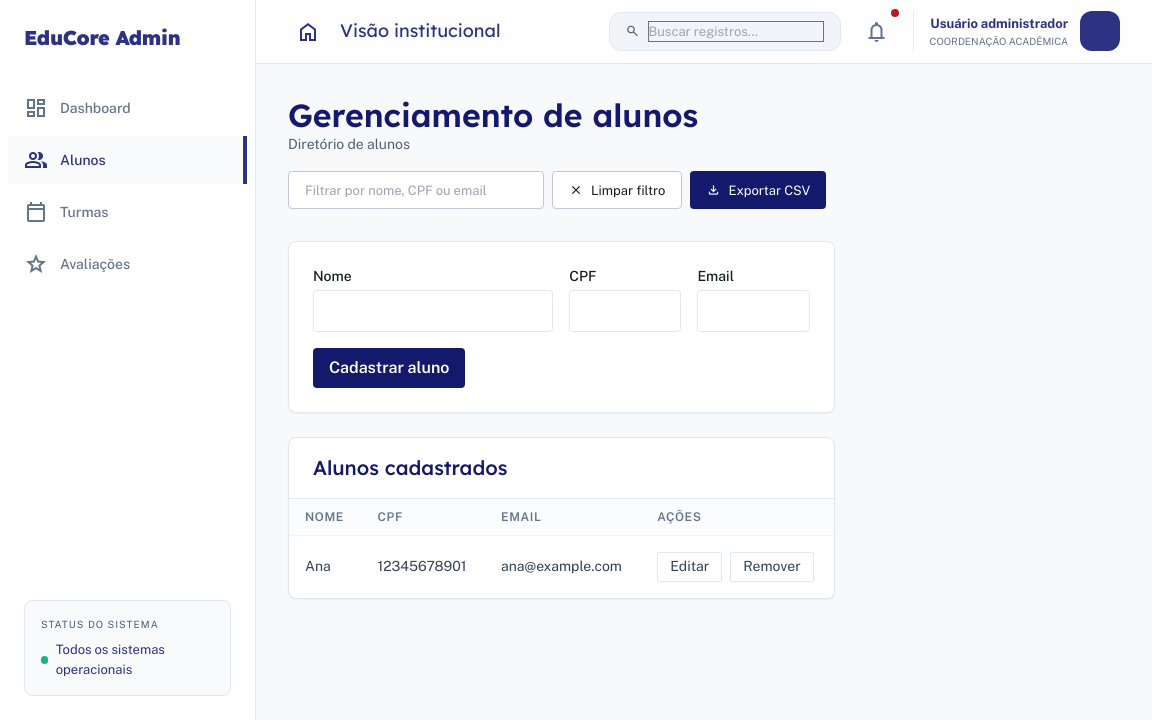
Test: Tela de alunos › edita aluno existente com sucesso
Click the button "Editar".
click(690, 567)  # box [657,552,722,582]
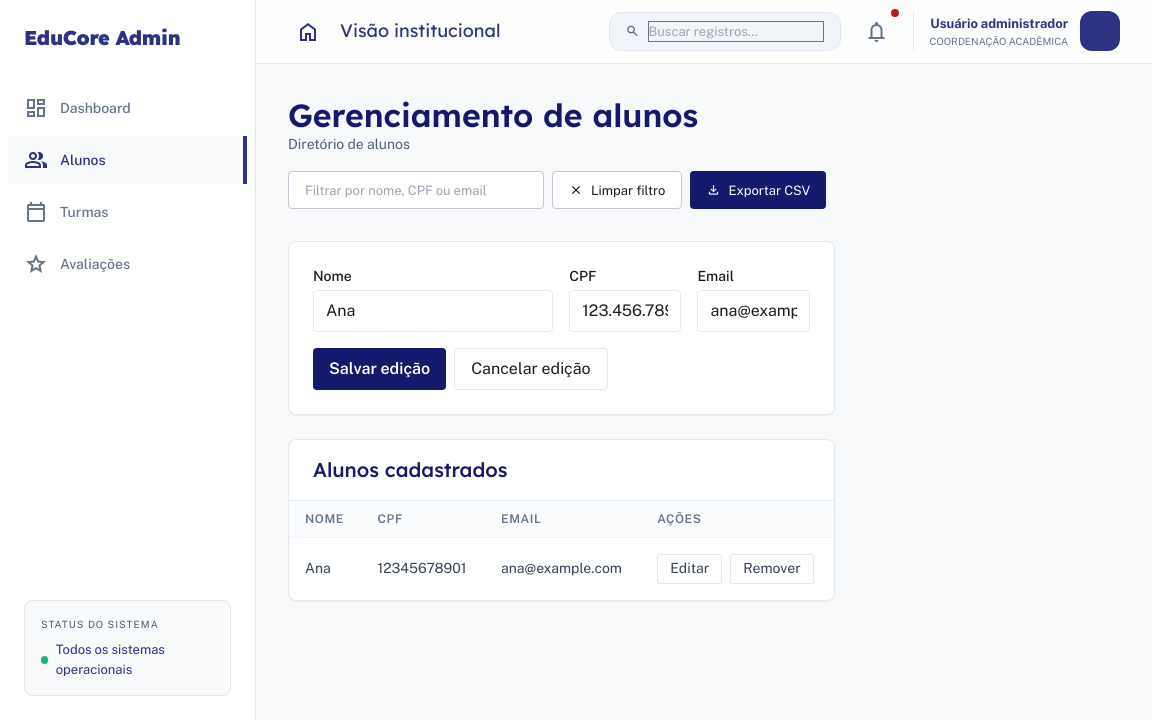
Replace the text in the field labelled "Nome" with "Ana Souza" at point(433, 311), box [313,290,553,332]
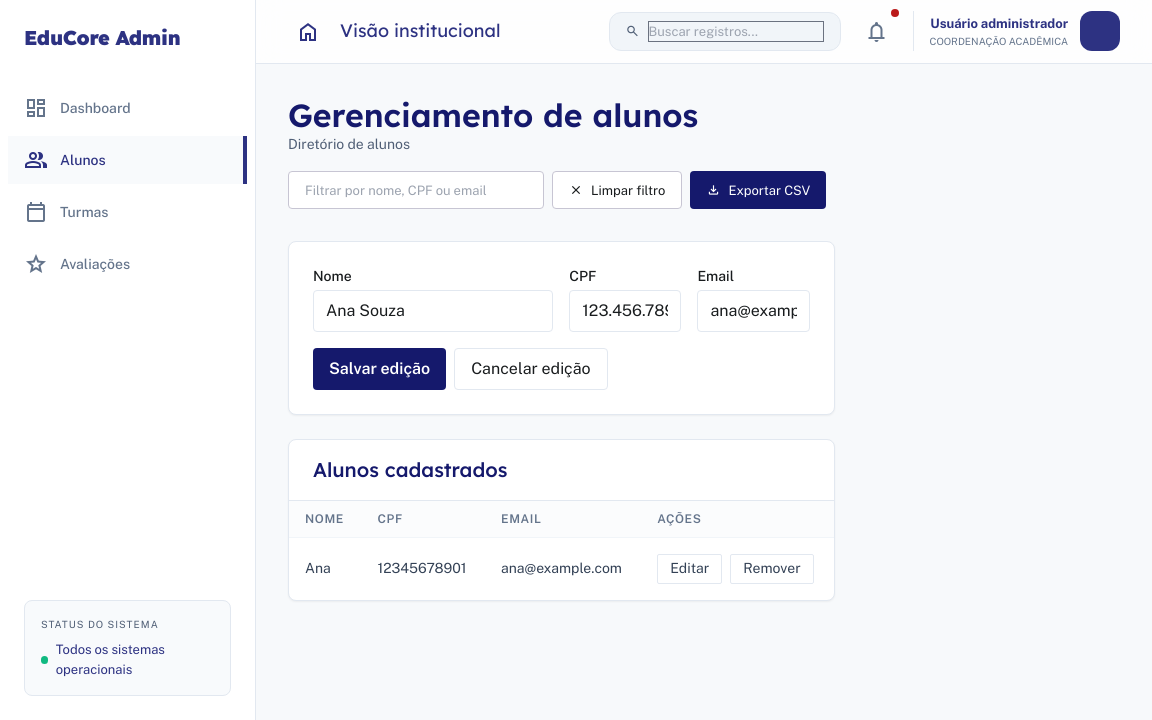
Replace the text in the field labelled "Email" with "ana.souza@example.com" at point(754, 311), box [698,290,810,332]
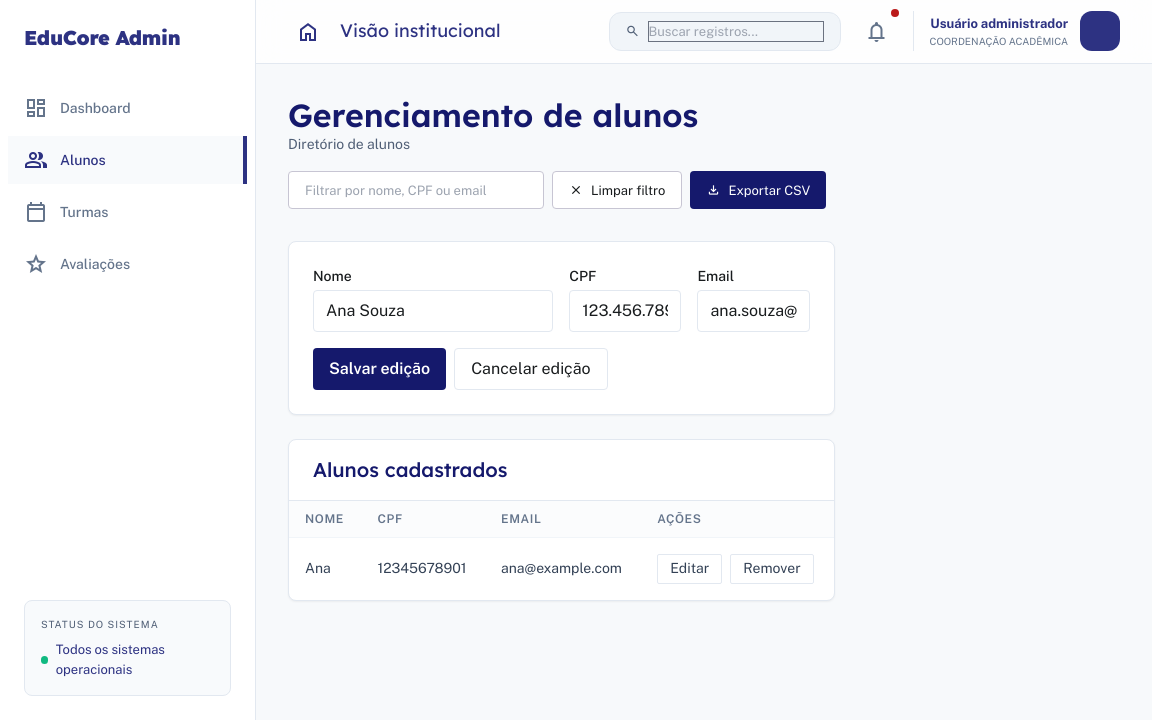
Click the button "Salvar edição".
click(380, 369)  # box [313,348,446,390]
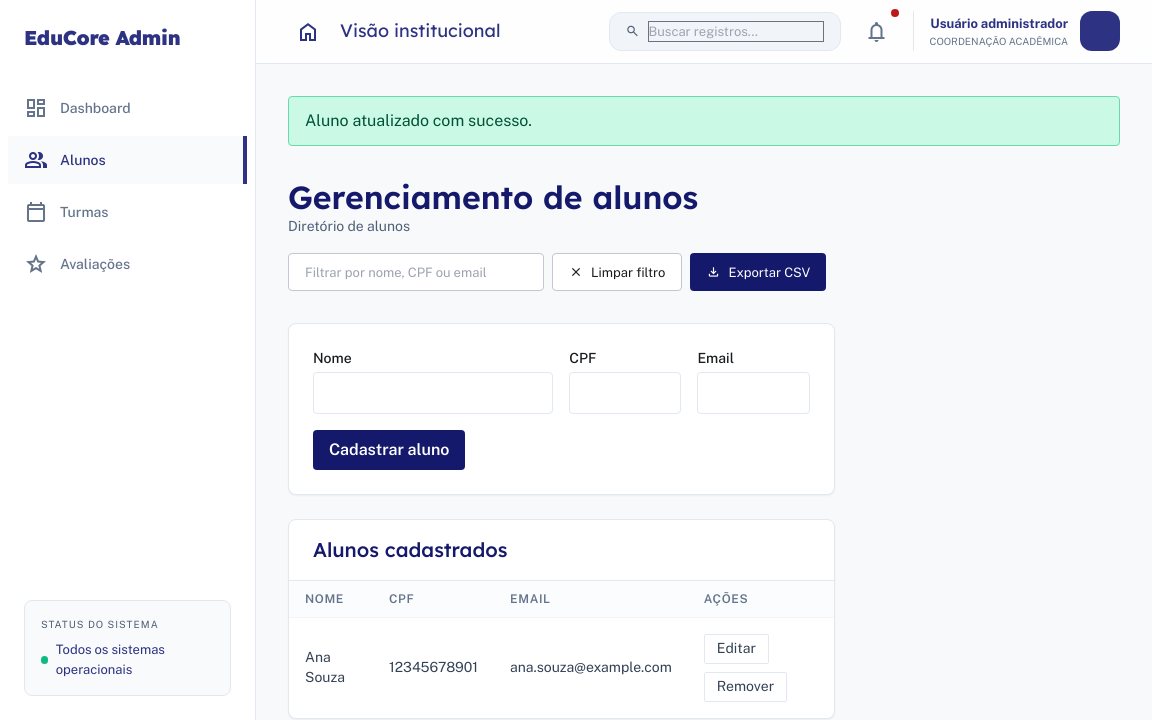
Result: the message shows "Aluno atualizado com sucesso" at [305,111,532,130]
Result: the text "Ana Souza" is shown at [289,618,373,718]
